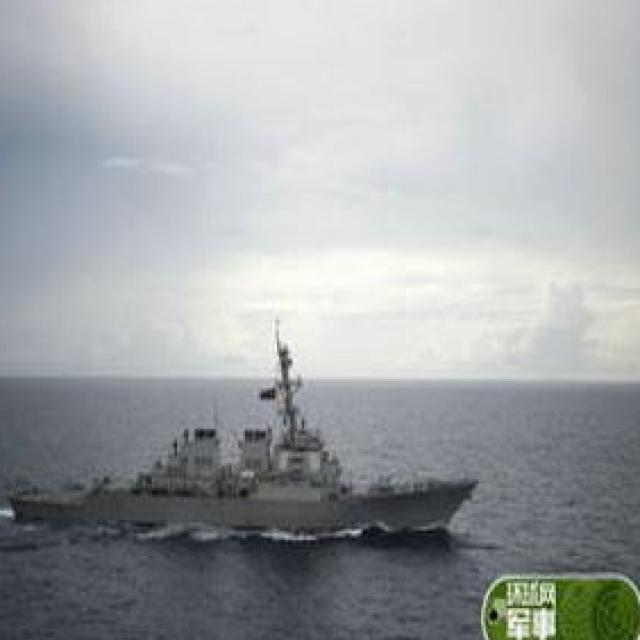navalvessels: (16, 327, 474, 547)
